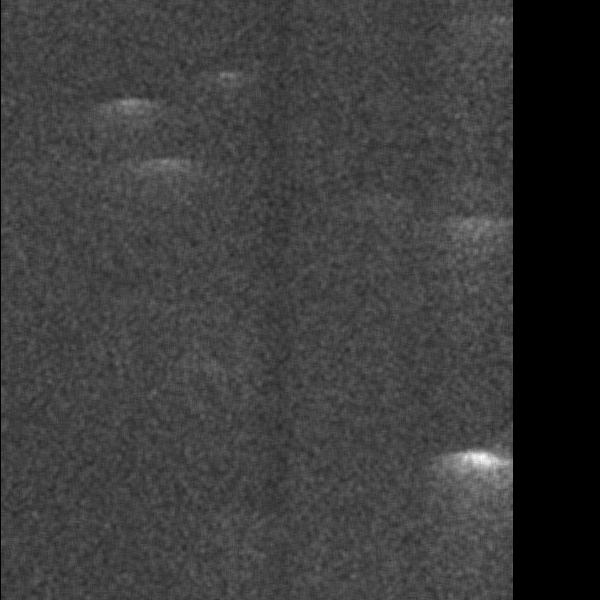spark: (235, 49, 316, 128), (241, 446, 315, 495)
